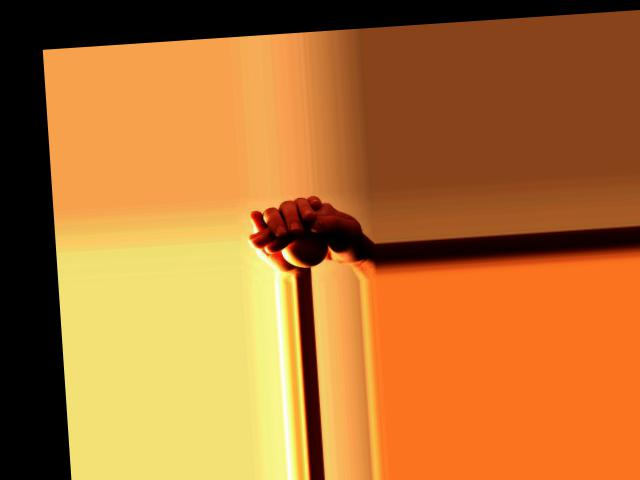egg: (280, 233, 330, 268)
